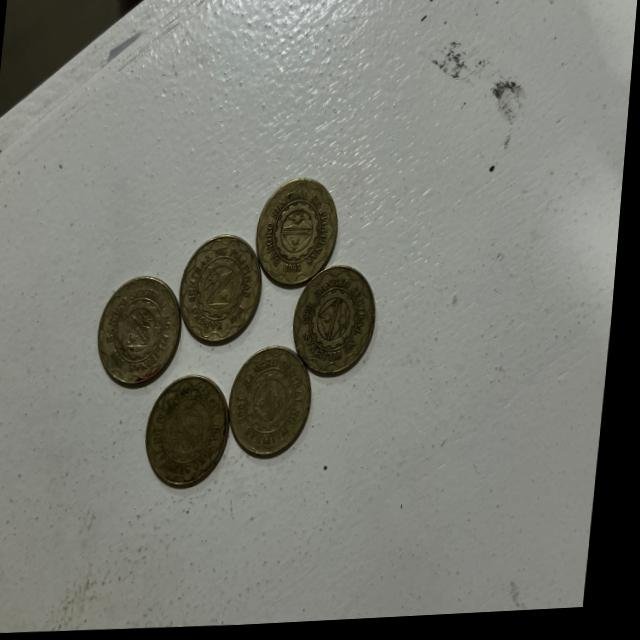5_Old_Back: (145, 378, 237, 498), (98, 274, 192, 390), (296, 262, 384, 382), (178, 234, 268, 349), (234, 345, 323, 460), (255, 184, 338, 288)
